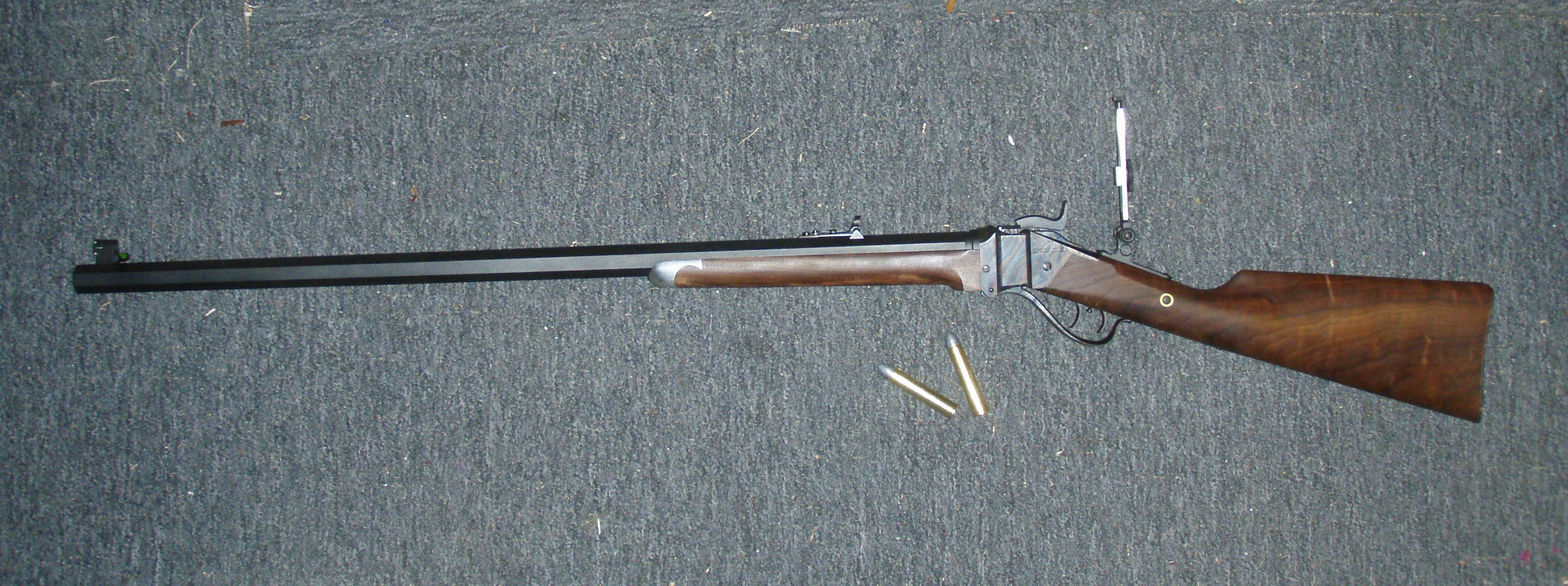GUN: (60, 201, 1504, 433)
